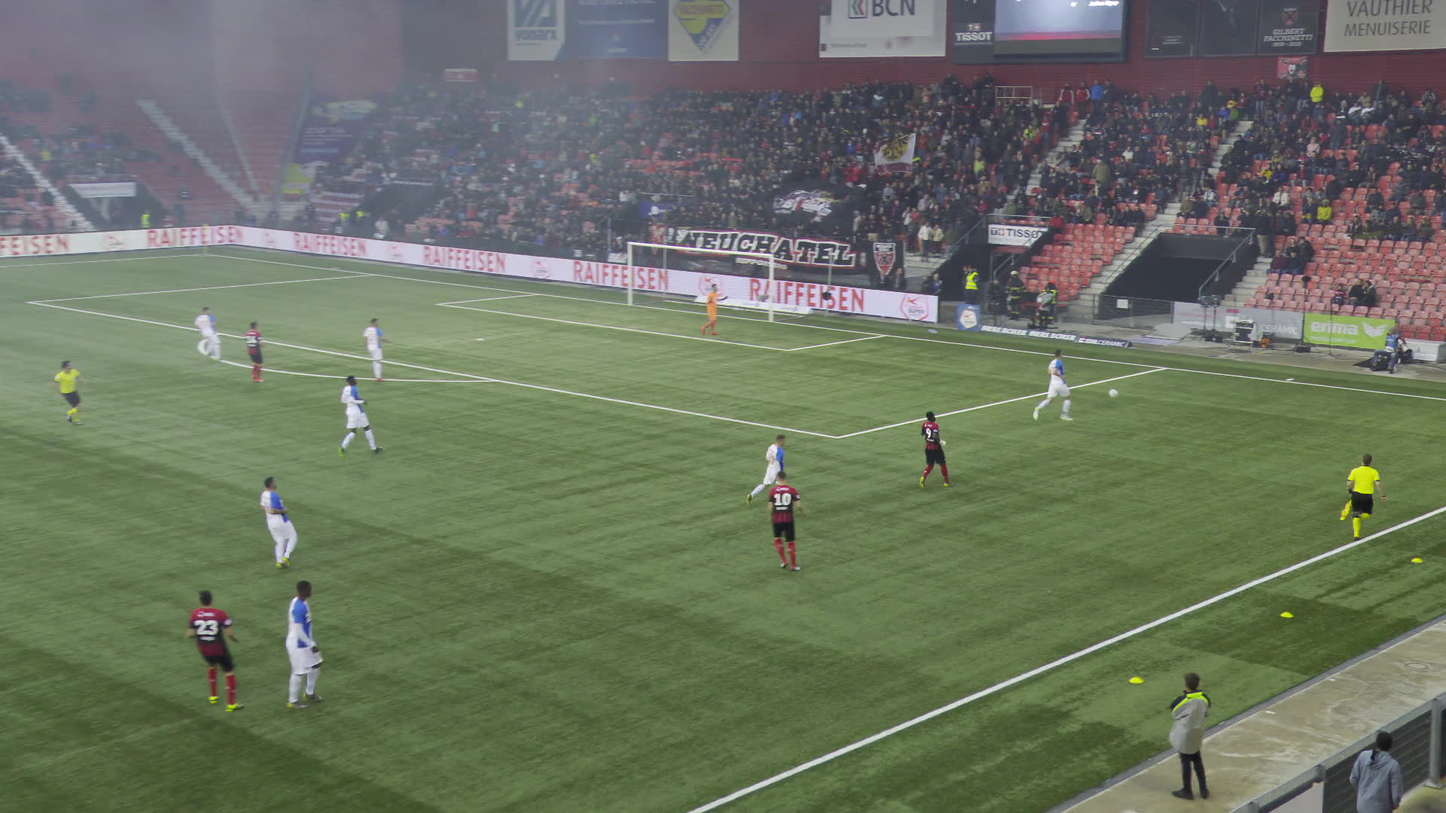ball: (1109, 389, 1116, 396)
player: (184, 590, 246, 711), (285, 580, 323, 708), (334, 375, 382, 455), (767, 470, 805, 568), (260, 476, 297, 569), (1032, 348, 1073, 420), (746, 433, 785, 505), (920, 411, 951, 487), (362, 318, 392, 380), (700, 285, 734, 335), (194, 307, 221, 360), (243, 322, 264, 382)
referee: (1347, 454, 1387, 541), (52, 358, 88, 426)
